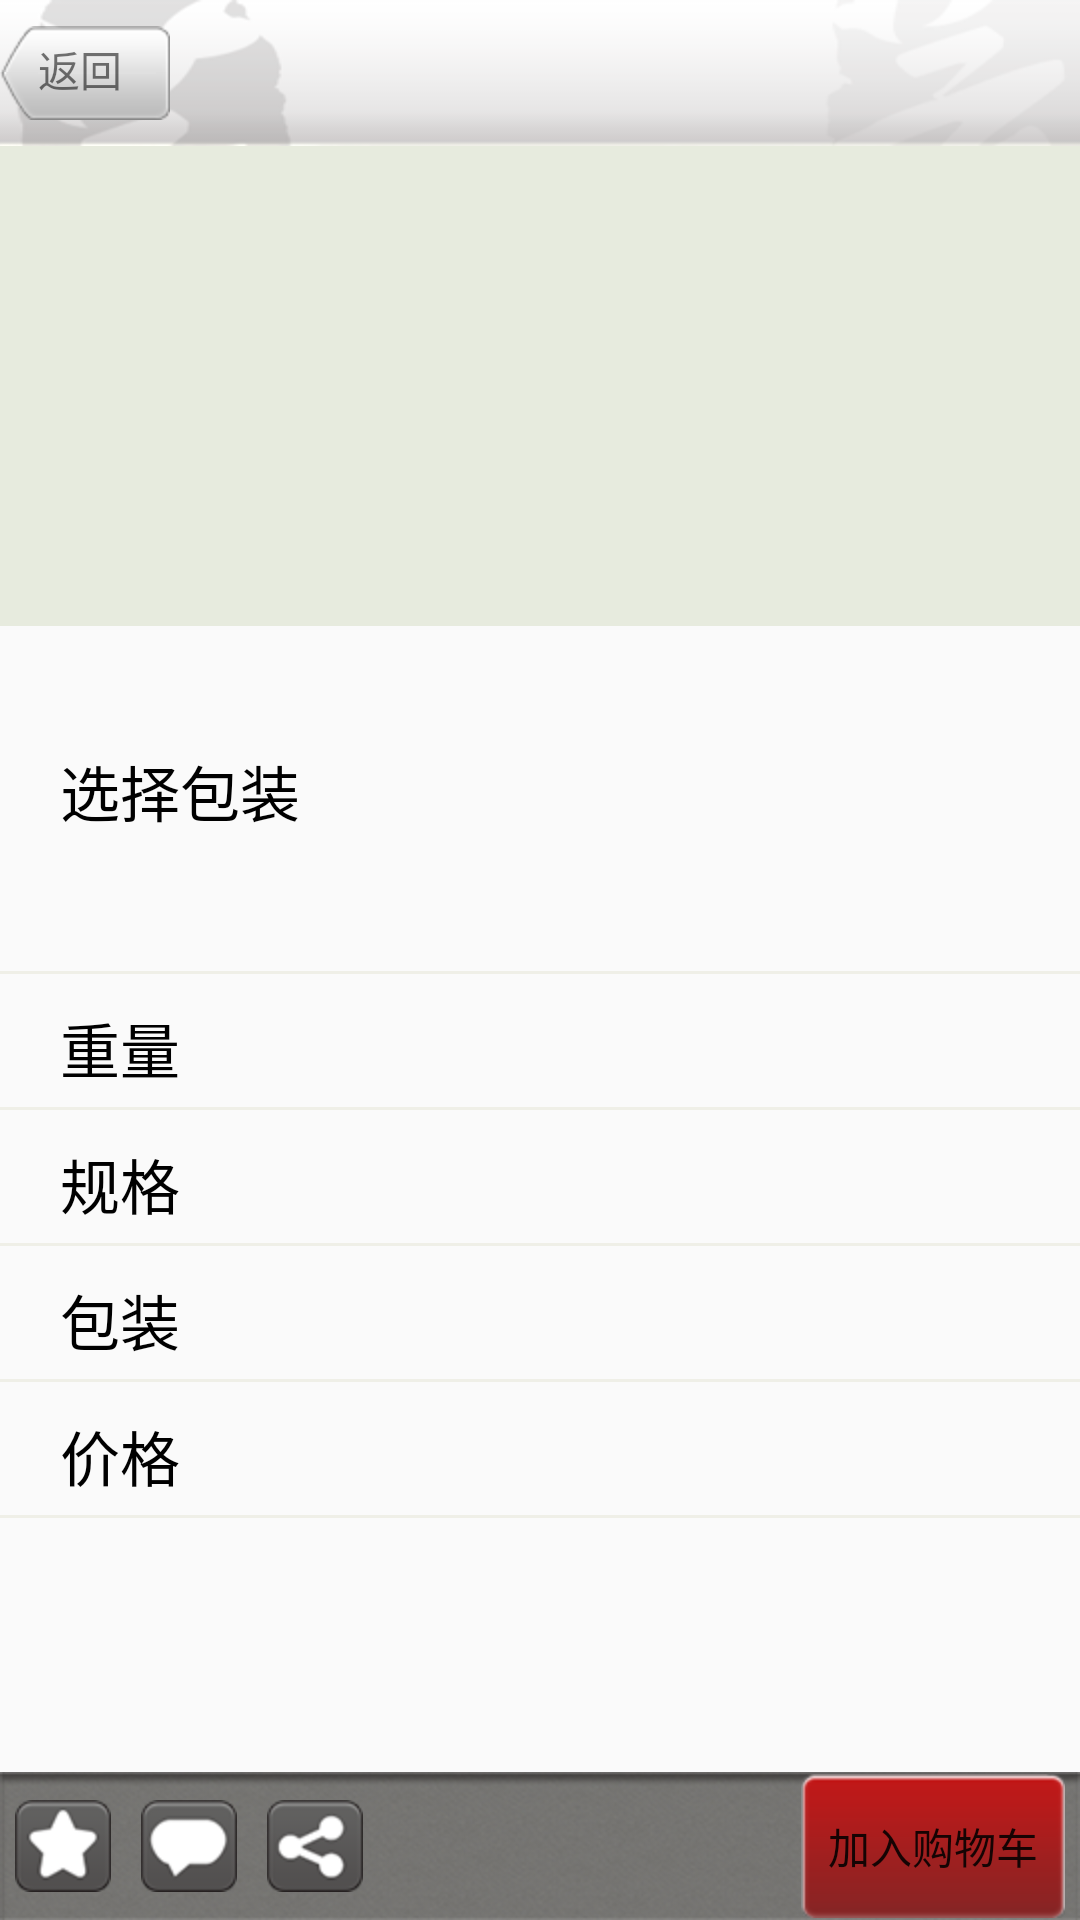

Locate icon controls on the screen. Image size 1080x1920, boxes as Rect(x1, y1, x2, y2).
collect: Rect(15, 1800, 111, 1892)
comment: Rect(141, 1800, 237, 1892)
